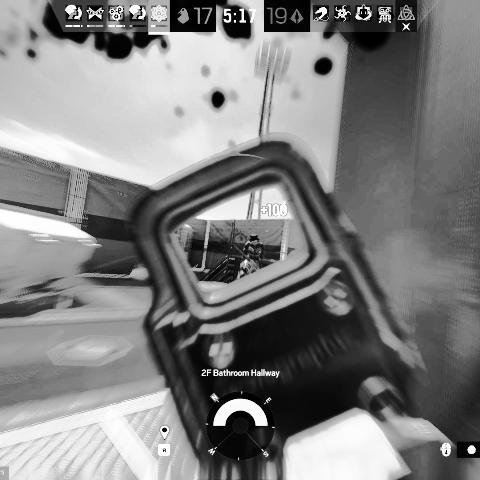Character: (237, 234, 265, 278)
Head: (248, 234, 260, 246)
